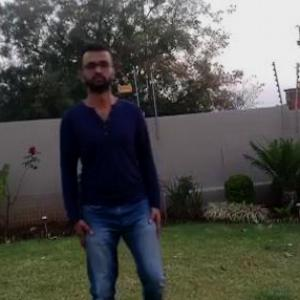follow: (65, 49, 158, 299)
